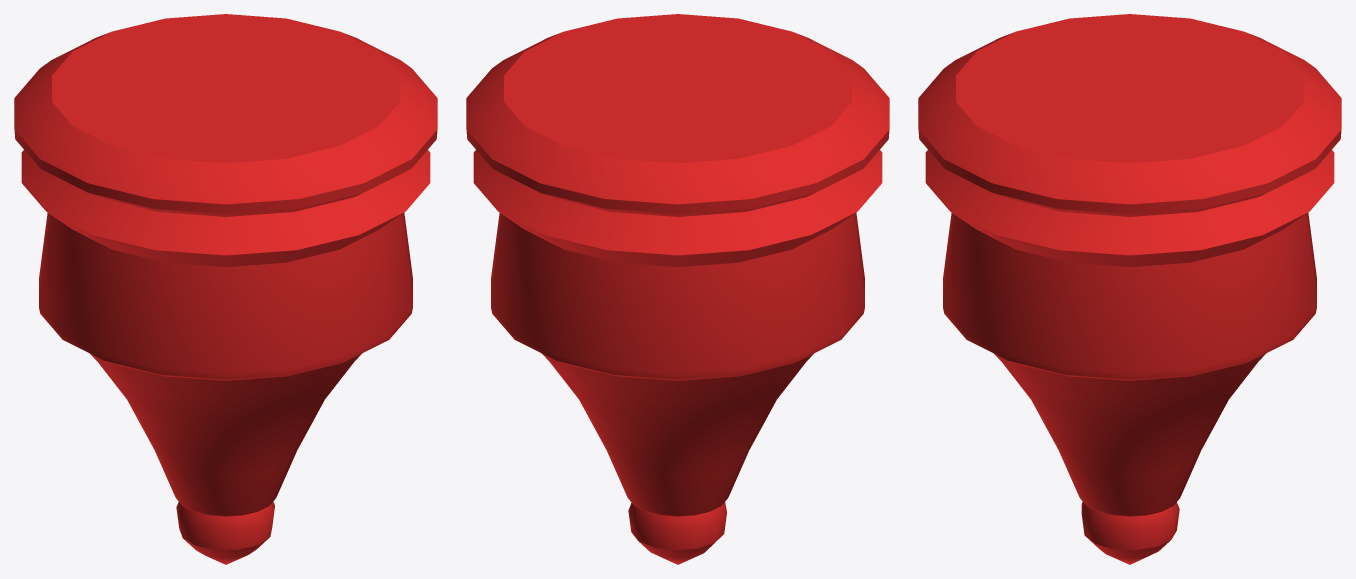
Rendered from SM_SmallOrnament_A_005.FBX.
3 renders of one model, left to right at view 1: azimuth 30°, elevation 25°; view 2: azimuth 150°, elevation 25°; view 3: azimuth 270°, elevation 25°, orthographic.
Visible parts, largest first — view 1: SM_SmallOrnament_A_005; view 2: SM_SmallOrnament_A_005; view 3: SM_SmallOrnament_A_005.
Part boxes in pixels (x1=…): SM_SmallOrnament_A_005: x1=14, y1=14, x2=437, y2=564; SM_SmallOrnament_A_005: x1=466, y1=14, x2=889, y2=564; SM_SmallOrnament_A_005: x1=918, y1=14, x2=1341, y2=564.
Size of the model in its own units: 95.96 by 117 by 94.51.
